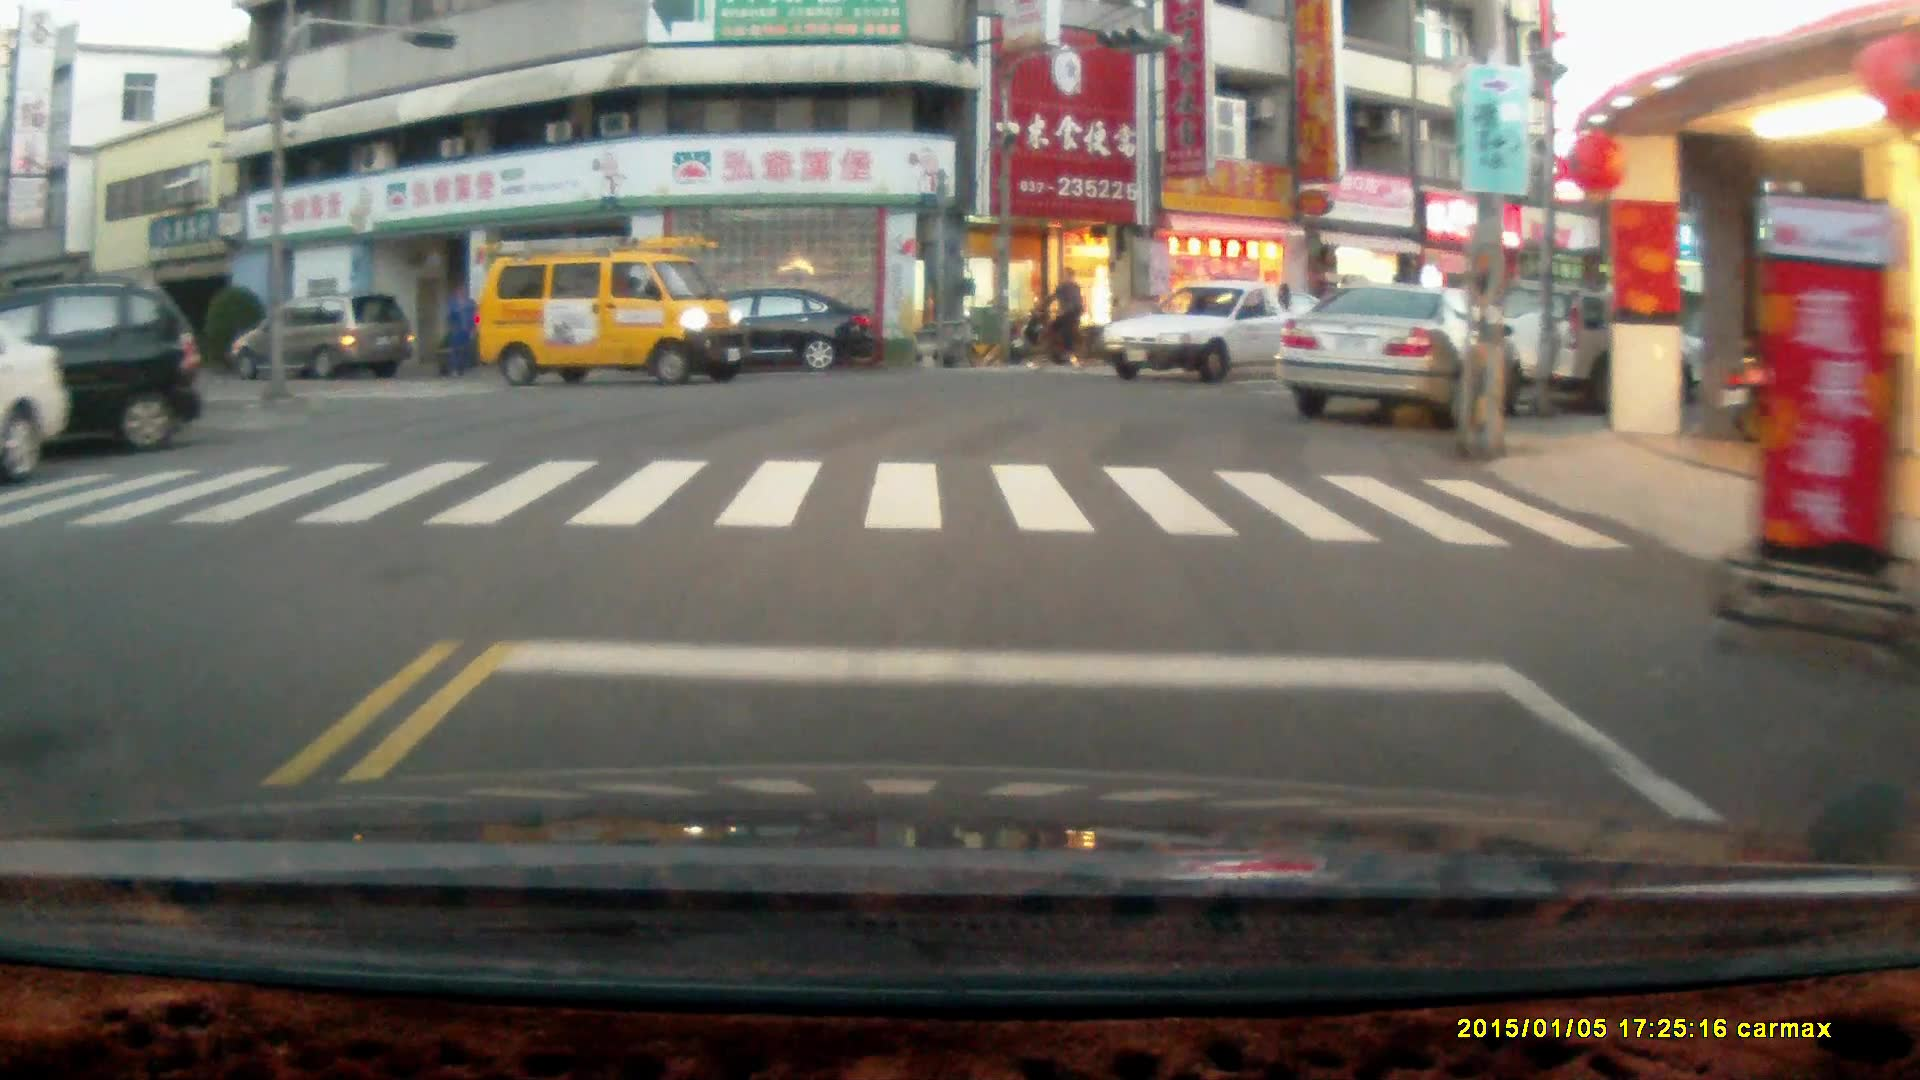pedestrian: (440, 281, 474, 373)
rider: (1017, 264, 1095, 374)
vehicle: (478, 236, 740, 390), (1276, 280, 1533, 430), (1, 276, 208, 461), (1475, 283, 1716, 418), (1101, 276, 1342, 387), (666, 292, 880, 378), (228, 293, 421, 382), (1, 333, 71, 485)
